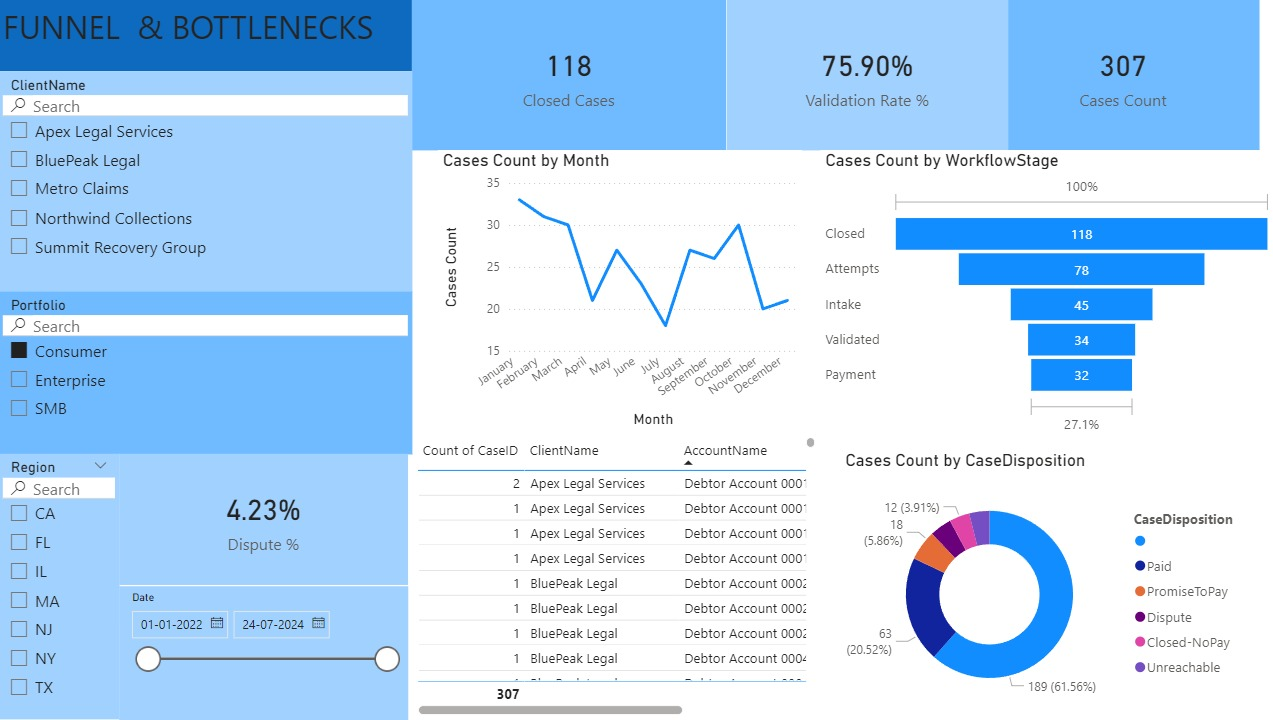

What the dashboard file says about the page in this screenshot:
{"tool":"powerbi","page":{"name":"Workflow Funnel","canvas":[1280,720],"ordinal":1},"visuals":[{"type":"textbox","box":[0,0,414.3,71.4],"z":0},{"type":"card","fields":{"Values":["DimAccount.Cases Count"]},"box":[988.6,0,272.9,150],"z":1000},{"type":"card","fields":{"Values":["FactCase.Validation Rate %"]},"box":[728.6,0,281.4,150],"z":2000},{"type":"card","fields":{"Values":["FactCase.Closed Cases"]},"box":[414.3,0,314.3,150],"z":3000},{"type":"funnel","fields":{"Category":["FactCase.WorkflowStage"],"Y":["DimAccount.Cases Count"]},"box":[822.9,150,457.1,290],"z":4000},{"type":"lineChart","fields":{"Category":["DimDate.Date.Variation.Date Hierarchy.Year","DimDate.Date.Variation.Date Hierarchy.Month"],"Y":["DimAccount.Cases Count"]},"box":[440,150,364.3,282.9],"z":5000},{"type":"donutChart","fields":{"Category":["FactCase.CaseDisposition"],"Y":["DimAccount.Cases Count"]},"box":[842.9,450,414.3,270],"z":6000},{"type":"tableEx","fields":{"Values":["FactCase.CaseID","DimClient.ClientName","DimAccount.AccountName","FactCase.CaseStatus","FactCase.WorkflowStage"]},"box":[414.3,432.9,408.6,287.1],"z":6001},{"type":"slicer","fields":{"Values":["DimClient.ClientName"]},"box":[0,71.4,414.3,220],"z":6003},{"type":"slicer","fields":{"Values":["DimAccount.Portfolio"]},"box":[0,291.4,414.3,162.9],"z":6004},{"type":"slicer","fields":{"Values":["DimAccount.Region"]},"box":[0,454.3,121.4,265.7],"z":6005},{"type":"slicer","fields":{"Values":["DimDate.Date"]},"box":[121.4,585.7,288.6,134.3],"z":6006},{"type":"card","fields":{"Values":["DimAccount.Dispute %"]},"box":[121.4,454.3,288.6,131.4],"z":6007}]}

Visuals, with their boxes in screenshot pixels (x1, y1, x2, y2), scaled from the page's 1280x720 canvas onto the 1273x720 screenshot:
textbox: (x1=0, y1=0, x2=412, y2=71)
card - DimAccount.Cases Count: (x1=983, y1=0, x2=1255, y2=150)
card - FactCase.Validation Rate %: (x1=725, y1=0, x2=1004, y2=150)
card - FactCase.Closed Cases: (x1=412, y1=0, x2=725, y2=150)
funnel - FactCase.WorkflowStage x DimAccount.Cases Count: (x1=818, y1=150, x2=1272, y2=440)
lineChart - DimDate.Date.Variation.Date Hierarchy.Year x DimDate.Date.Variation.Date Hierarchy.Month: (x1=438, y1=150, x2=800, y2=433)
donutChart - FactCase.CaseDisposition x DimAccount.Cases Count: (x1=838, y1=450, x2=1250, y2=719)
tableEx - FactCase.CaseID x DimClient.ClientName: (x1=412, y1=433, x2=818, y2=719)
slicer - DimClient.ClientName: (x1=0, y1=71, x2=412, y2=291)
slicer - DimAccount.Portfolio: (x1=0, y1=291, x2=412, y2=454)
slicer - DimAccount.Region: (x1=0, y1=454, x2=121, y2=719)
slicer - DimDate.Date: (x1=121, y1=586, x2=408, y2=719)
card - DimAccount.Dispute %: (x1=121, y1=454, x2=408, y2=586)
